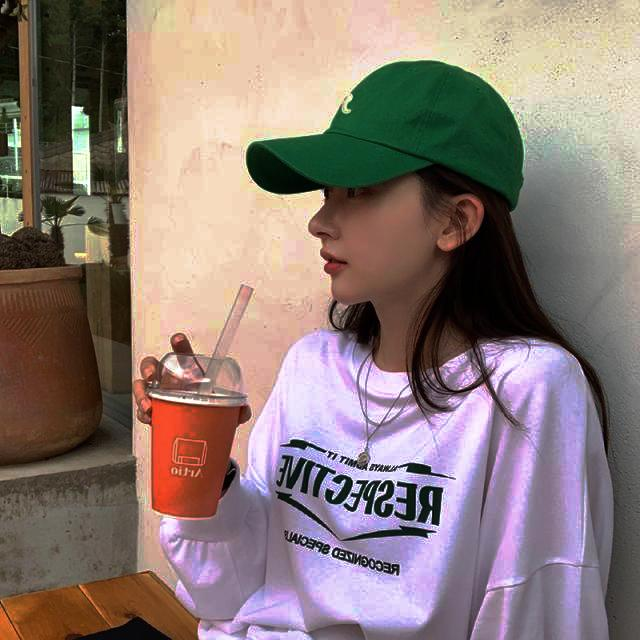TOPI: (247, 58, 526, 226)
